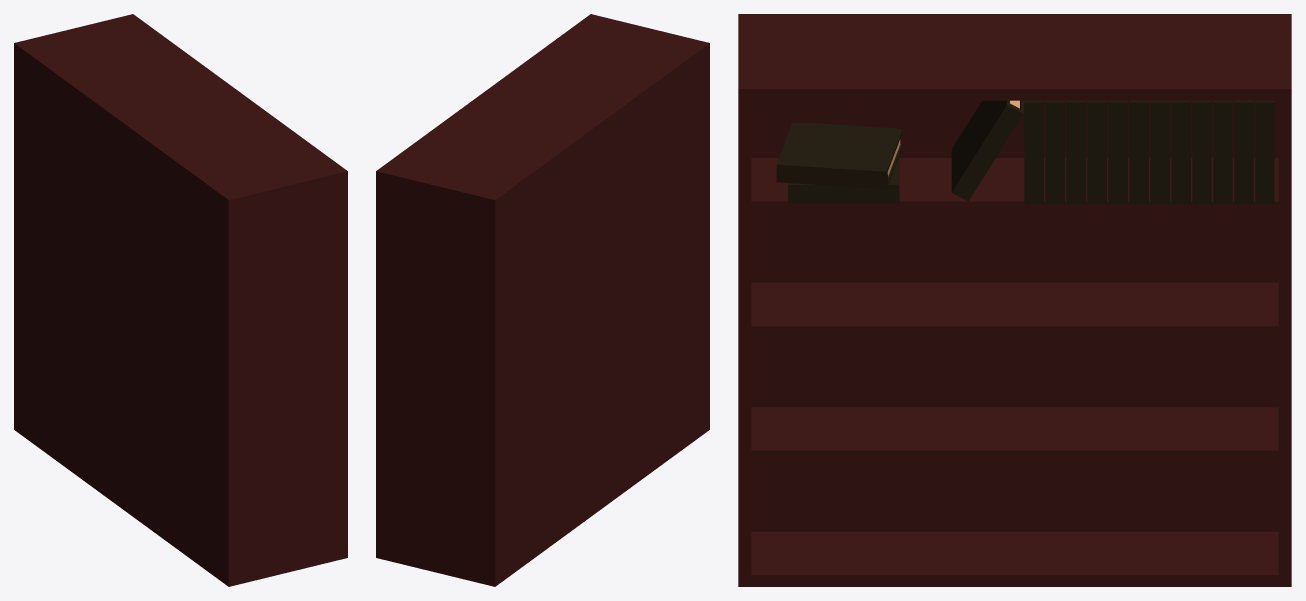
The model's file is bookcase.fbx.
3 views of the same model, side by side, from view 1: azimuth 30°, elevation 25°; view 2: azimuth 150°, elevation 25°; view 3: azimuth 270°, elevation 25° (orthographic). The views are drawn at different scales.
Parts seen in each view (by area): view 1: Cube; view 2: Cube; view 3: Cube, Cube.001, Cube.004, Cube.002, Cube.003.
Boxes of the visible parts, x1=… form: Cube: x1=14, y1=14, x2=347, y2=586; Cube: x1=376, y1=14, x2=709, y2=586; Cube: x1=738, y1=14, x2=1291, y2=586; Cube.001: x1=1024, y1=100, x2=1274, y2=203; Cube.004: x1=776, y1=123, x2=902, y2=189; Cube.002: x1=951, y1=100, x2=1023, y2=201; Cube.003: x1=788, y1=156, x2=899, y2=202.
Bounding box in the file's own units: 215 × 621 × 625.
